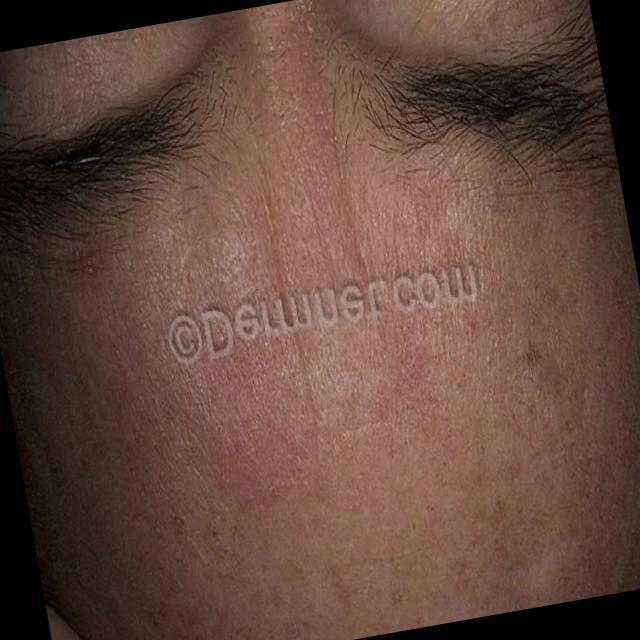Eczema: (171, 69, 451, 505)
